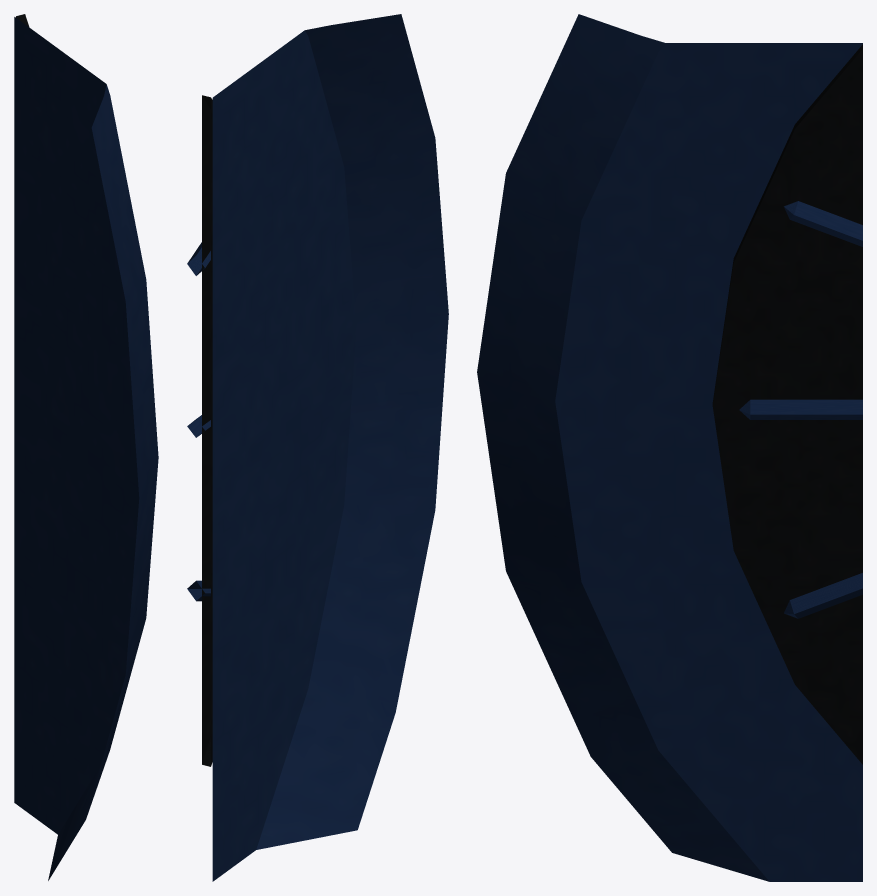
Rendered from cell_47.obj.
The picture shows the model from 3 angles, left to right: view 1: azimuth 30°, elevation 25°; view 2: azimuth 150°, elevation 25°; view 3: azimuth 270°, elevation 25°; orthographic projection. The views are drawn at different scales.
Visible parts, largest first — view 1: cell_47; view 2: cell_47; view 3: cell_47.
Part boxes in pixels (box(x1,y1,x2,y2)): cell_47: box(14, 14, 158, 880); cell_47: box(187, 14, 448, 881); cell_47: box(477, 14, 862, 881).
Bounding box in the file's own units: 0.1086 × 1 × 0.4169.
